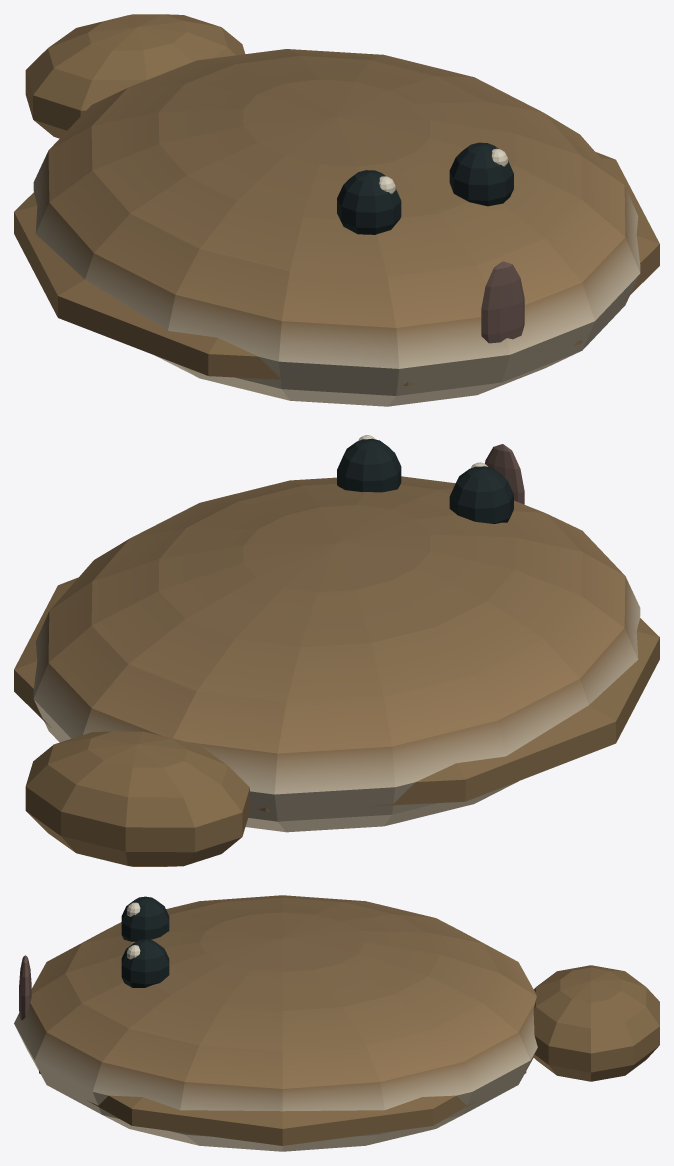
The model's file is komachi-flounder.glb.
3 renders of one model, top to bottom at view 1: azimuth 30°, elevation 25°; view 2: azimuth 150°, elevation 25°; view 3: azimuth 270°, elevation 25°, orthographic. The views are drawn at different scales.
Visible parts, largest first — view 1: Fish_Body, Fish_Tail_Fin; view 2: Fish_Body, Fish_Tail_Fin; view 3: Fish_Body, Fish_Tail_Fin.
Part boxes in pixels (bbox=[...]): Fish_Body: bbox=[14, 49, 659, 406]; Fish_Tail_Fin: bbox=[25, 14, 245, 138]; Fish_Body: bbox=[14, 435, 659, 832]; Fish_Tail_Fin: bbox=[25, 731, 249, 866]; Fish_Body: bbox=[14, 895, 537, 1151]; Fish_Tail_Fin: bbox=[533, 965, 659, 1081].
Bounding box in the file's own units: 0.1485 × 0.062 × 0.1922.
